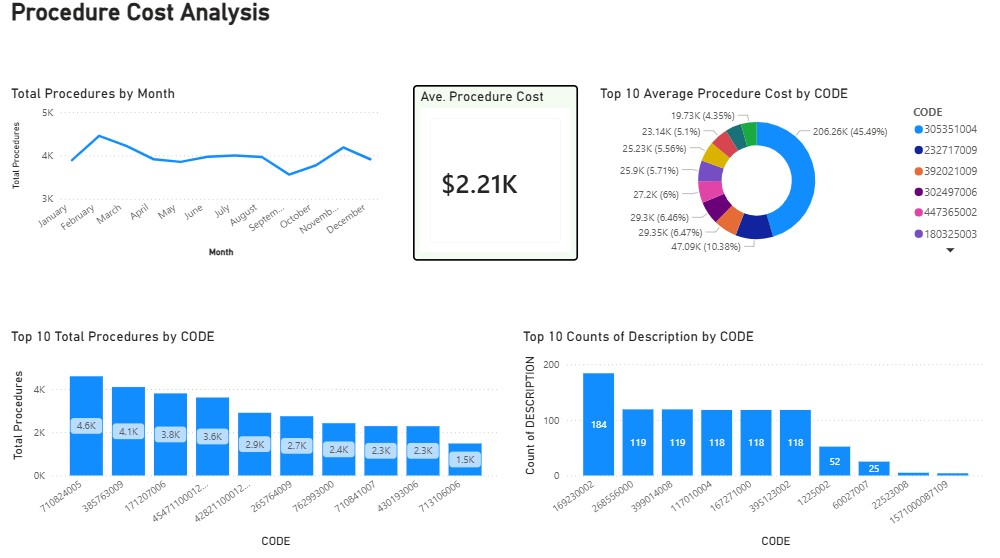

Layout of this report page (visuals, bound fields, positions):
{"tool":"powerbi","page":{"name":"Procedures","canvas":[1280,720],"ordinal":2},"visuals":[{"type":"lineChart","title":"Total Procedures by Month","fields":{"Y":["procedures.Total Procedures"],"Category":["Date Table.MonthName"]},"box":[15.6,118,460.7,213.7],"z":0},{"type":"lineClusteredColumnComboChart","title":"Top 10 Total Procedures by CODE","fields":{"Category":["procedures.CODE"],"Y":["procedures.Total Procedures"]},"box":[15.6,414,604.3,272.6],"z":1000},{"type":"cardVisual","title":"Ave. Procedure Cost","fields":{"Data":["procedures.Average Procedure Cost"]},"box":[510.8,118,201.4,213.7],"z":2000},{"type":"clusteredColumnChart","title":"Top 10 Counts of Description by CODE","fields":{"Category":["procedures.CODE"],"Y":["CountNonNull(procedures.DESCRIPTION)"]},"box":[639.9,414,572,272.6],"z":3000},{"type":"donutChart","title":"Top 10 Average Procedure Cost by CODE","fields":{"Category":["procedures.CODE"],"Y":["procedures.Average Procedure Cost"]},"box":[733.4,118,478.5,213.7],"z":4000},{"type":"textbox","title":"Procedure Cost Analysis","box":[15.6,12.2,696.6,35.6],"z":5000}]}

Visuals, with their boxes in screenshot pixels (x1, y1, x2, y2), scaled from the page's 1280x720 canvas onto the 1000x558 screenshot:
"Total Procedures by Month" lineChart: 12:91:372:257
"Top 10 Total Procedures by CODE" lineClusteredColumnComboChart: 12:321:484:532
"Ave. Procedure Cost" cardVisual: 399:91:556:257
"Top 10 Counts of Description by CODE" clusteredColumnChart: 500:321:947:532
"Top 10 Average Procedure Cost by CODE" donutChart: 573:91:947:257
"Procedure Cost Analysis" textbox: 12:9:556:37
